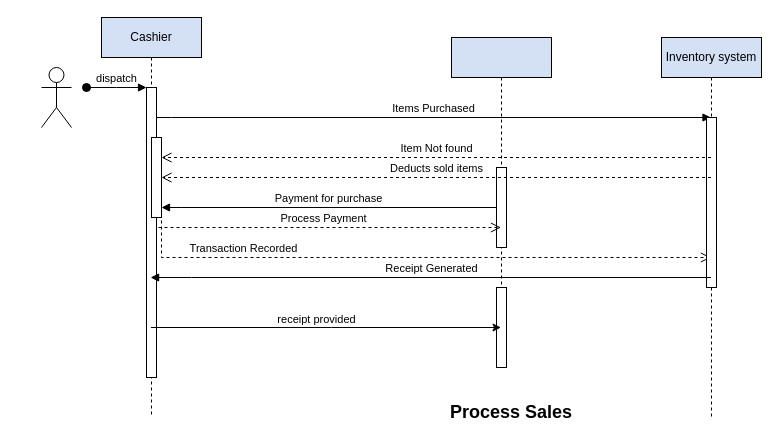
Some shapes in this 779 by 445 pixel diagram are drawn without their labels. Each missing label, with the centre of its shape:
Customer: the point at 501,187
Store Manager: the point at 56,97
